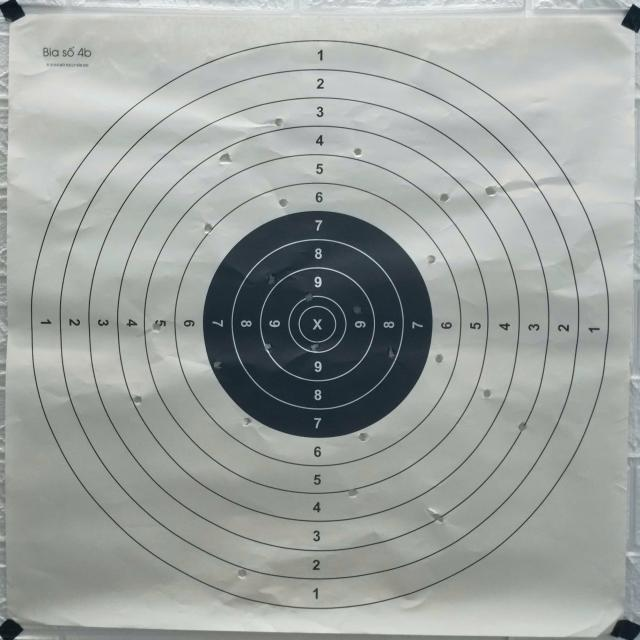bullet: (484, 184, 496, 196), (220, 152, 231, 164), (440, 192, 448, 204), (436, 352, 444, 364), (484, 388, 492, 400), (280, 196, 288, 208), (348, 492, 360, 500), (276, 116, 284, 128), (132, 396, 144, 404), (432, 516, 444, 524), (516, 424, 528, 432), (360, 432, 368, 443), (352, 304, 363, 312), (352, 148, 363, 156), (388, 348, 396, 359), (236, 572, 248, 579), (268, 272, 275, 284), (152, 322, 160, 332), (308, 344, 319, 351), (428, 256, 436, 264), (212, 360, 220, 368), (244, 420, 252, 428), (304, 292, 312, 300), (204, 224, 212, 231), (264, 344, 272, 348)
target: (4, 12, 620, 636)
